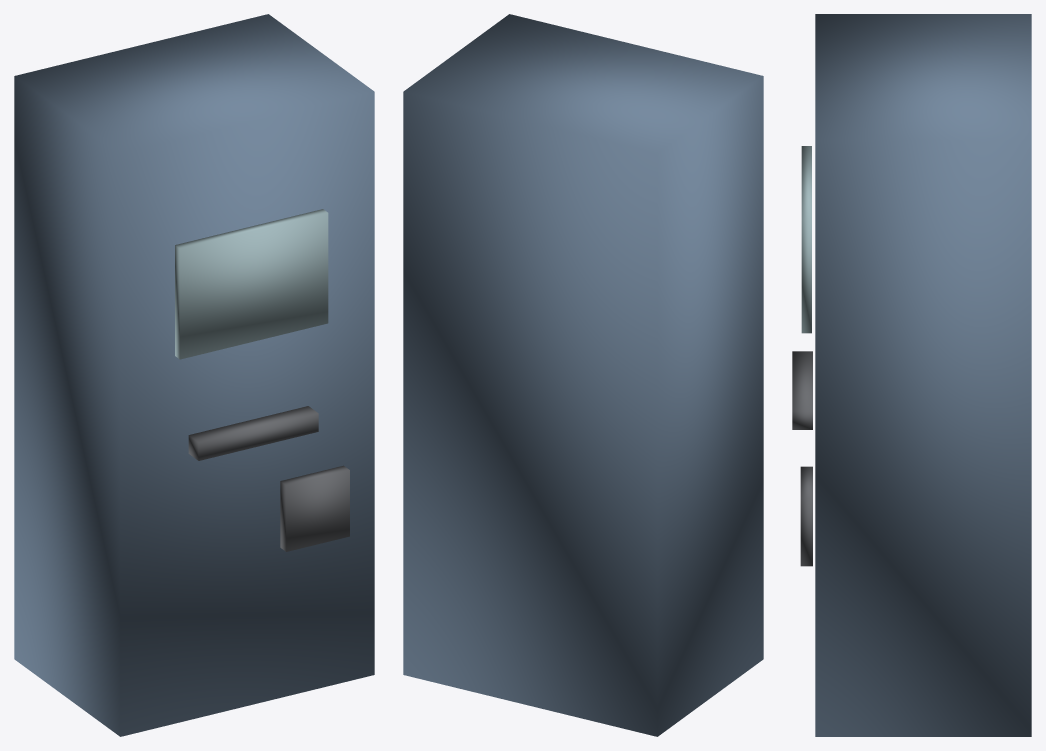
Rendered from ticket_vending_machine.glb.
3 views of the same model, side by side, from view 1: azimuth 30°, elevation 25°; view 2: azimuth 150°, elevation 25°; view 3: azimuth 270°, elevation 25° (orthographic). The views are drawn at different scales.
Parts seen in each view (by area): view 1: world; view 2: world; view 3: world.
Part boxes in pixels (x1,y1,x2,y2): world: (14,14,374,736); world: (403,14,763,736); world: (792,14,1031,736).
Bounding box in the file's own units: 0.72 × 1.58 × 0.575.
